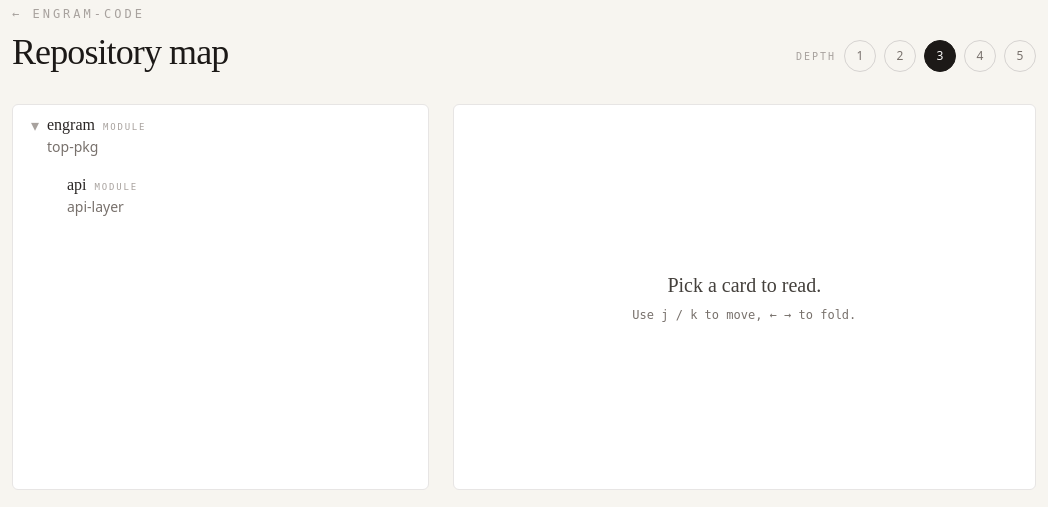
Test: MapView expand/collapse › collapsing a top-level node hides its children
Expected: the text "api" is shown, top-left (67, 173), bottom-right (86, 197)
Click the button with test id "map-row-toggle" at [35, 125], box top-left (27, 117), bottom-right (43, 133)
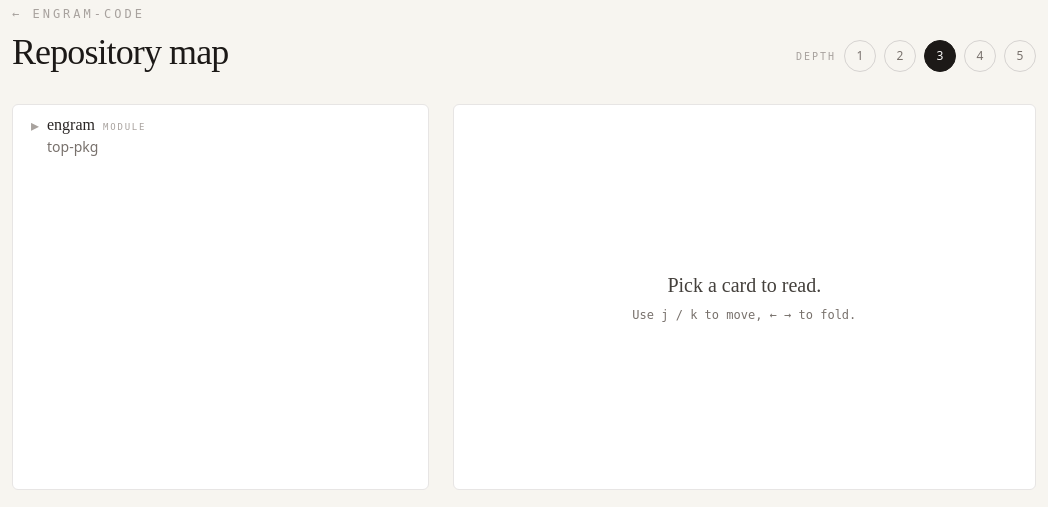
Result: the button "api" is gone
Click the button with test id "map-row-toggle" at [35, 125], box top-left (27, 117), bottom-right (43, 133)
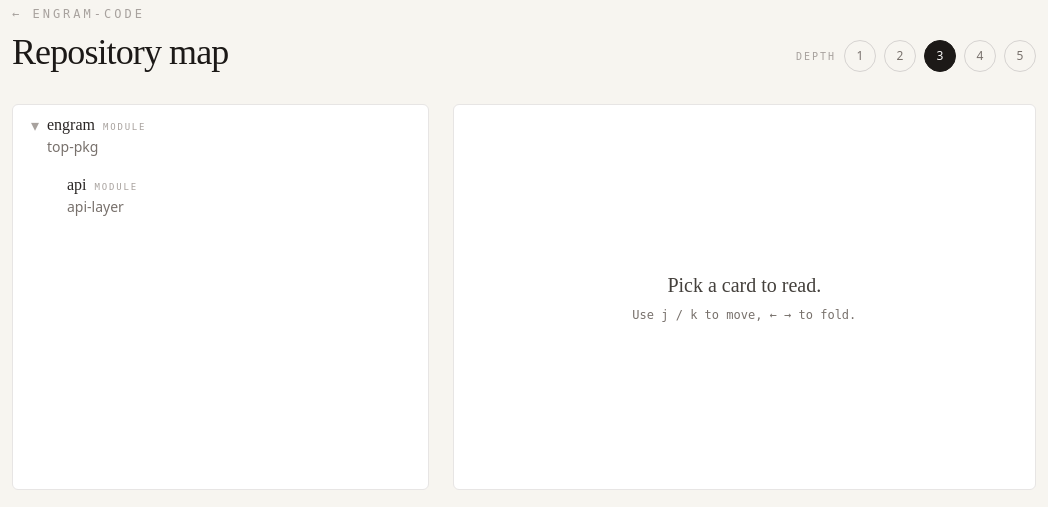
Result: the text "api" is shown at top-left (67, 173), bottom-right (86, 197)
